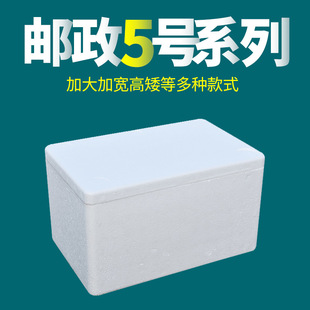Boxes: (45, 120, 265, 294)
